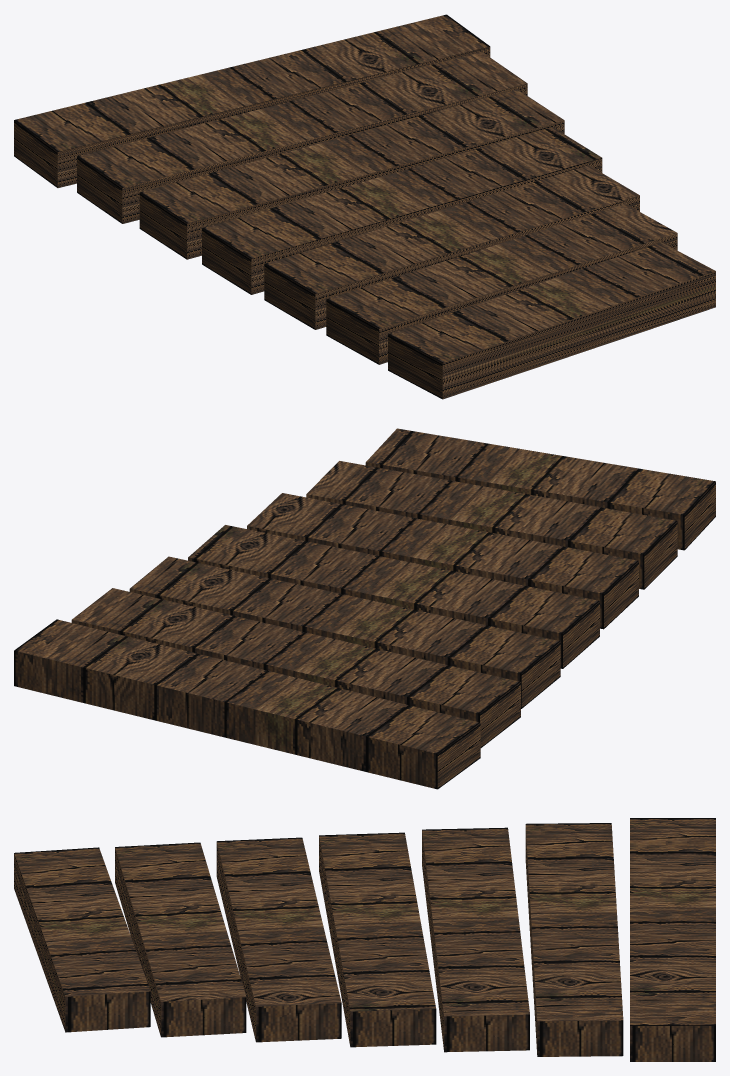
Rendered from M_Ponte_Quebrada.obj.
3 renders of one model, top to bottom at view 1: azimuth 30°, elevation 25°; view 2: azimuth 150°, elevation 25°; view 3: azimuth 270°, elevation 25°, orthographic. The views are drawn at different scales.
Parts seen in each view (by area): view 1: M_Ponte_Quebrada; view 2: M_Ponte_Quebrada; view 3: M_Ponte_Quebrada.
Boxes of the visible parts, left/top/right/bottom form: M_Ponte_Quebrada: left=14, top=14, right=715, bottom=399; M_Ponte_Quebrada: left=14, top=428, right=715, bottom=789; M_Ponte_Quebrada: left=14, top=818, right=715, bottom=1061.
Bounding box in the file's own units: 2 × 0.16 × 2.85.
Materials: 1 (1 with a texture image).
